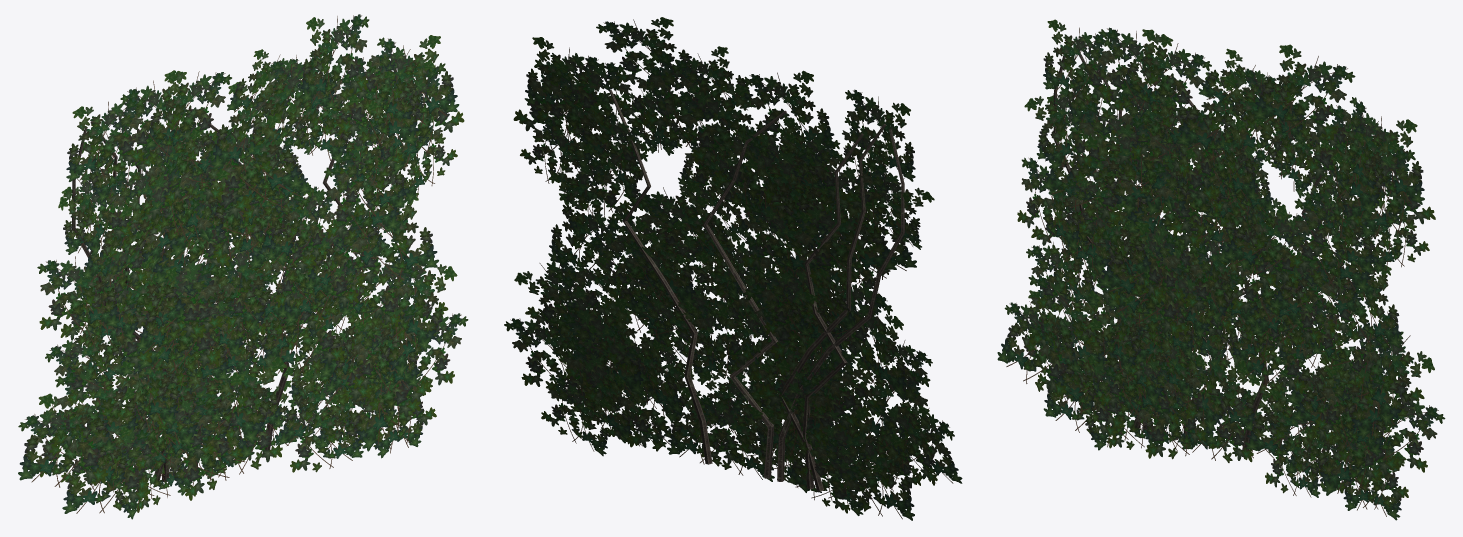
Rendered from IvyWallPanel.fbx.
3 views of the same model, side by side, from view 1: azimuth 30°, elevation 25°; view 2: azimuth 150°, elevation 25°; view 3: azimuth 330°, elevation 25° (orthographic). The views are drawn at different scales.
Visible parts, largest first — view 1: IvyWallPanel_Leaves, IvyWallPanel_Main; view 2: IvyWallPanel_Leaves, IvyWallPanel_Main; view 3: IvyWallPanel_Leaves, IvyWallPanel_Main.
Boxes of the visible parts, bbox=[...] form: IvyWallPanel_Leaves: bbox=[18, 14, 468, 519]; IvyWallPanel_Main: bbox=[72, 96, 358, 482]; IvyWallPanel_Leaves: bbox=[504, 17, 962, 520]; IvyWallPanel_Main: bbox=[609, 90, 904, 491]; IvyWallPanel_Leaves: bbox=[997, 19, 1445, 520]; IvyWallPanel_Main: bbox=[1053, 41, 1325, 456].
Bounding box in the file's own units: 974 × 943 × 84.4.
